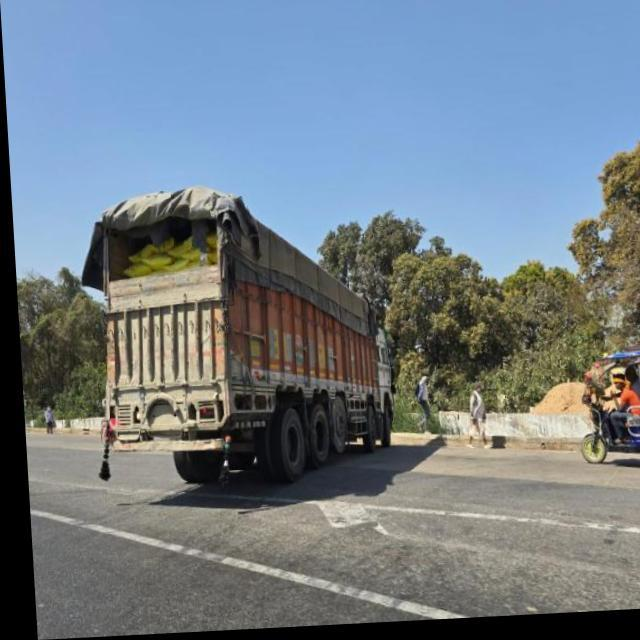covered: (101, 182, 384, 515)
